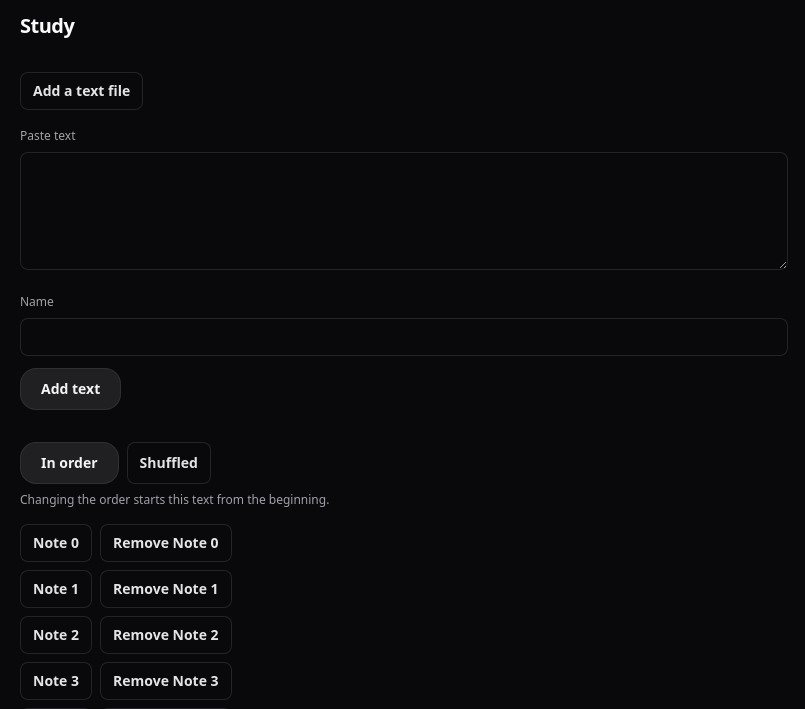
it: Study page › refuses another text when the library is full
Check: the button "Note 0" is shown, box [20, 524, 92, 562]
Type "Hello" into the text box labelled "Paste text" at coordinates (404, 211), box [20, 152, 788, 270]
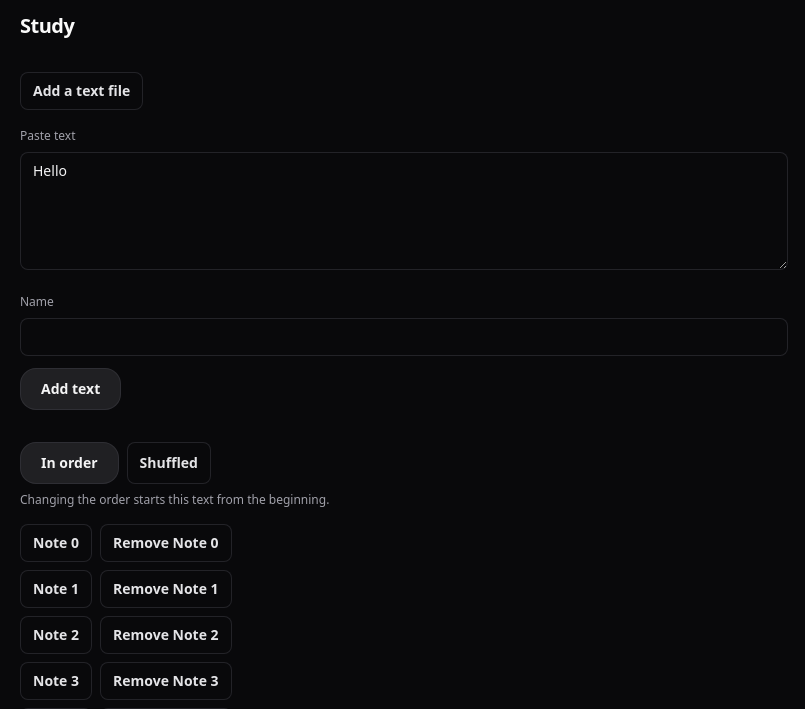
Click the button "Add text" at coordinates (71, 389), box [20, 368, 121, 410]
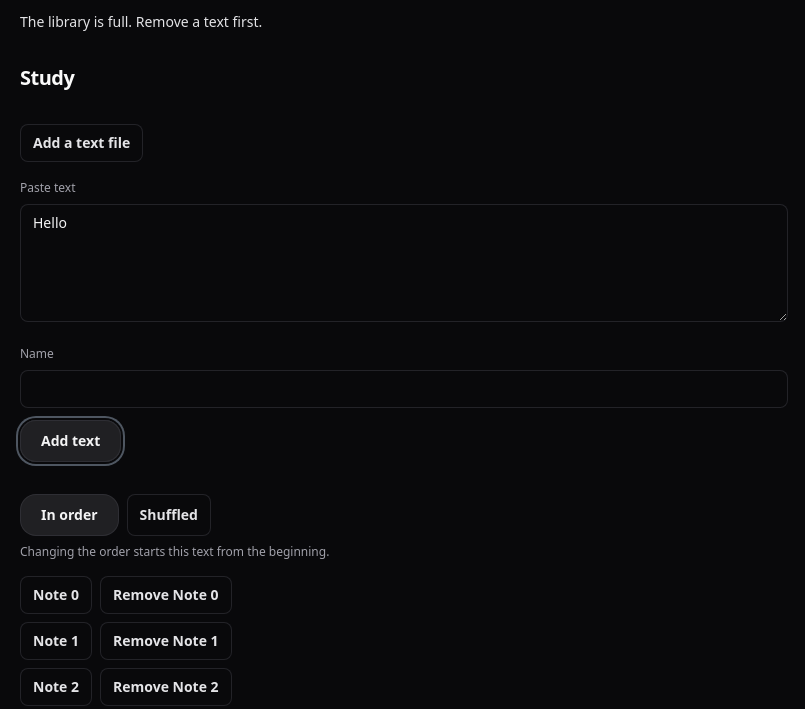
Check: the message reads "The library is full. Remove a text first.", box [20, 12, 262, 31]
